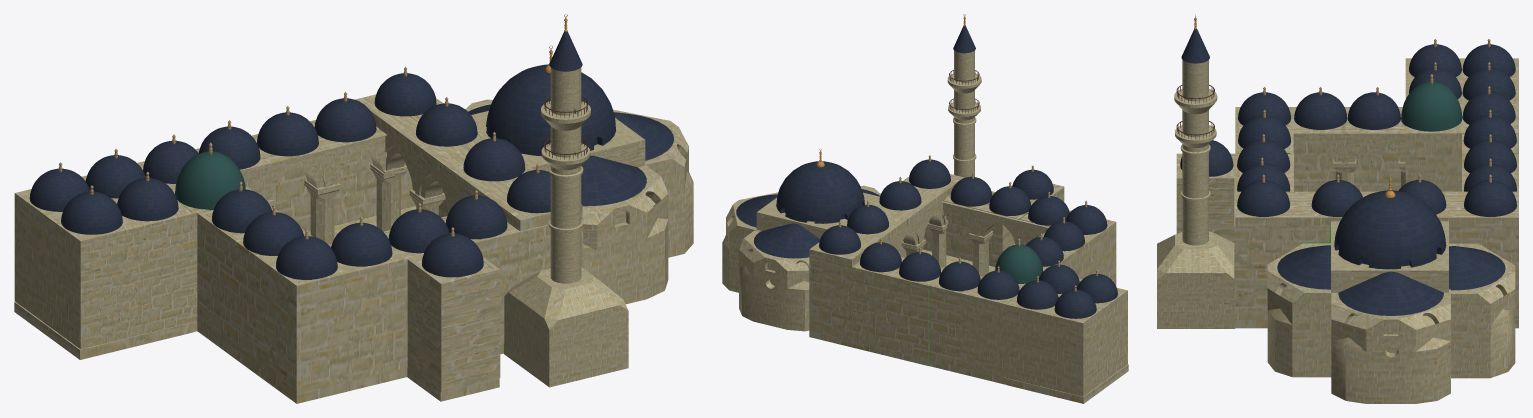
The model's file is FinalMosqueWithBakedTextures.fbx.
The picture shows the model from 3 angles, left to right: view 1: azimuth 30°, elevation 25°; view 2: azimuth 150°, elevation 25°; view 3: azimuth 270°, elevation 25°; orthographic projection. The views are drawn at different scales.
Parts seen in each view (by area): view 1: Cylinder.029, Cube.023, Cube.017, Cube.012, Cube.007, Sphere.046; view 2: Cylinder.029, Cube.007, Cube.012, Cube.023, Cube.017, Sphere.046; view 3: Cube.012, Cylinder.029, Cube.017, Sphere.046, Cube.007, Cube.023.
Part boxes in pixels (x1,y1,x2,y2): Cylinder.029: (137,120,407,403); Cube.023: (14,148,194,359); Cube.017: (383,132,583,401); Cube.012: (465,45,693,304); Cube.007: (251,67,490,244); Sphere.046: (504,14,628,387); Cylinder.029: (929,191,1116,384); Cube.007: (809,200,944,365); Cube.012: (722,148,880,331); Cube.023: (1006,260,1128,403); Cube.017: (870,155,1064,276); Sphere.046: (947,14,981,177); Cube.012: (1267,174,1515,403); Cylinder.029: (1235,74,1518,191); Cube.017: (1176,134,1377,328); Sphere.046: (1157,14,1235,328); Cube.007: (1378,134,1518,328); Cube.023: (1405,39,1518,105).
Size of the model in its own units: 4073 by 2307 by 2539.
